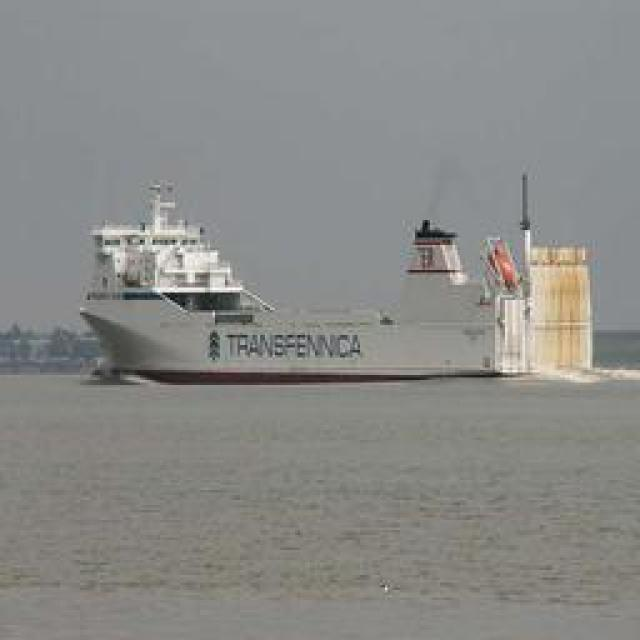Ship: (80, 184, 515, 384)
